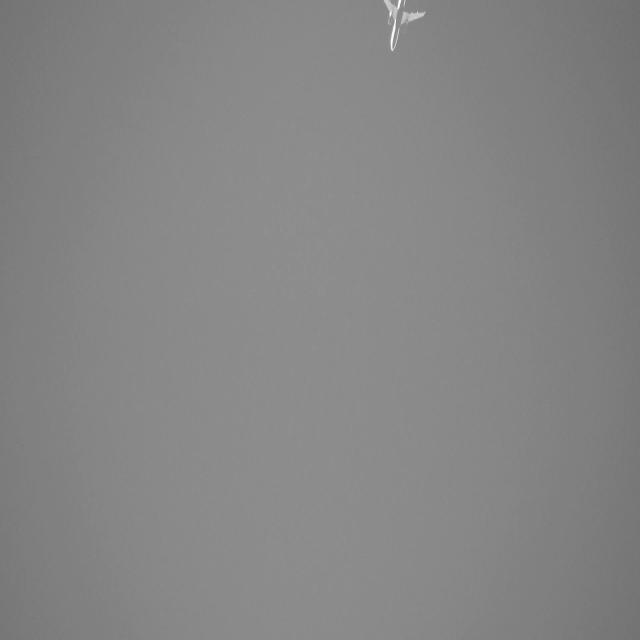aeroplane: (378, 0, 426, 58)
